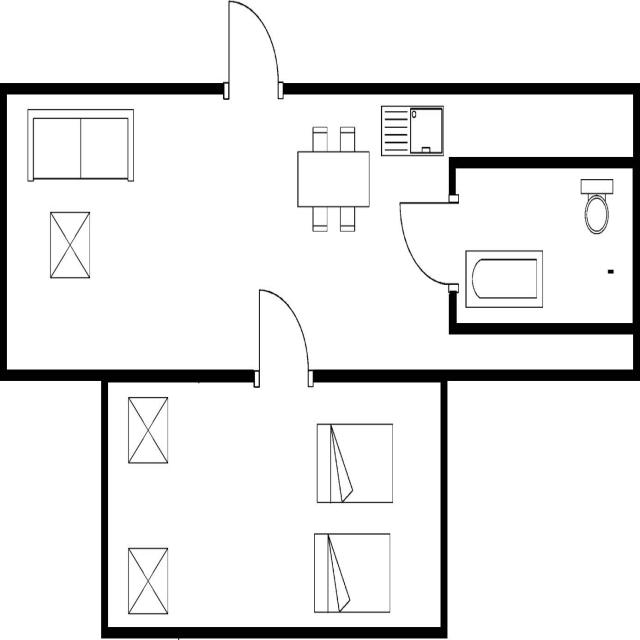bed: (313, 420, 395, 508), (311, 529, 392, 617)
coffee_table: (47, 206, 92, 283), (126, 393, 170, 469), (126, 544, 170, 620)
dining_table: (293, 122, 373, 235)
large_sink: (577, 174, 615, 238)
large_sofa: (24, 103, 136, 189)
sink: (378, 102, 446, 158)
tub: (462, 245, 544, 310)
